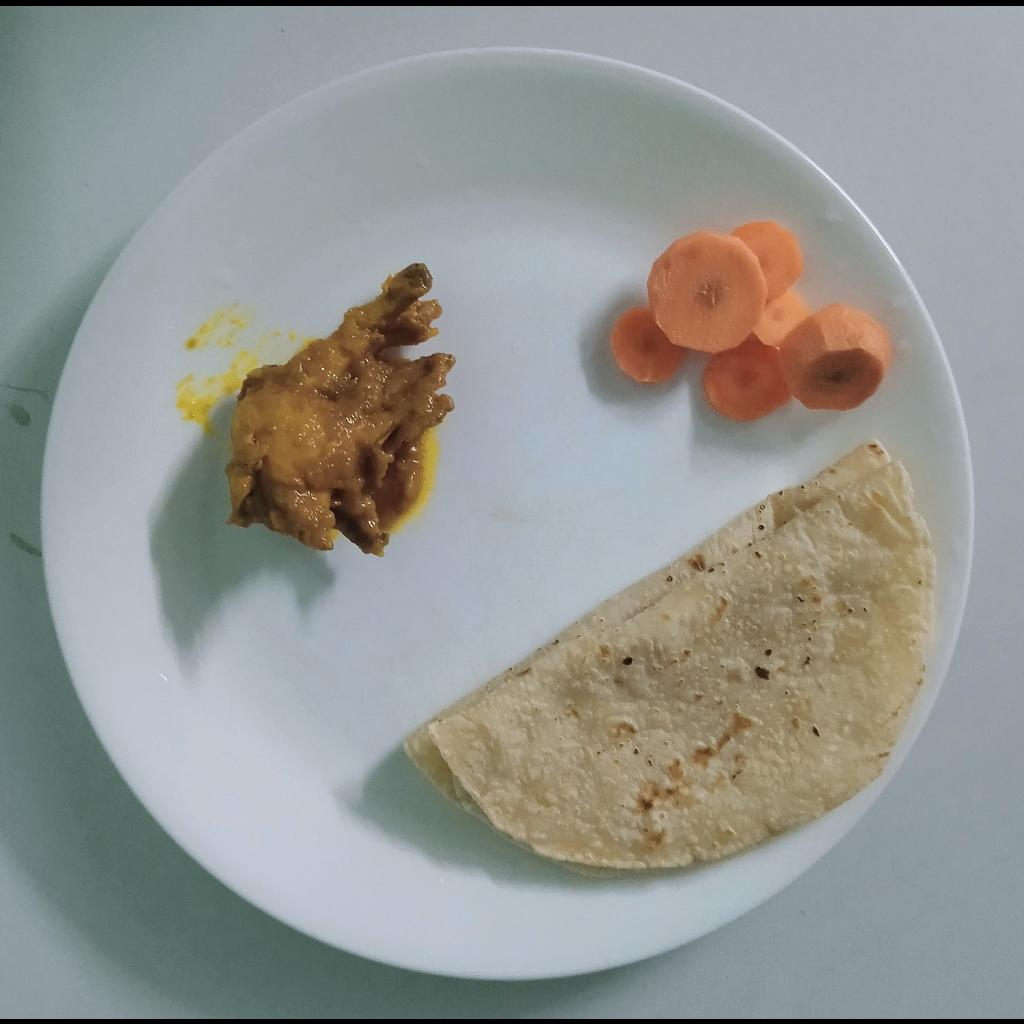carrot: (612, 220, 894, 420)
chicken: (223, 265, 457, 556)
ruti: (402, 435, 936, 877)
